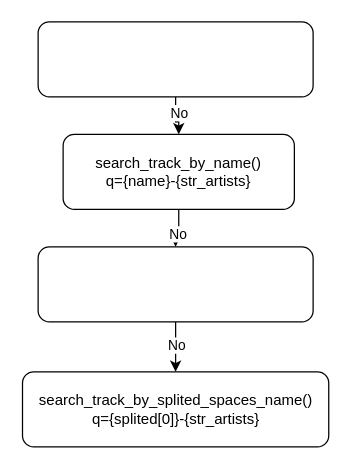
Image size: 350x469. Some labels were removed from this diagram. Each missing label, with the centre of its shape:
search_track_by_name_and_artists() q={artists_names}-{name}: pixel 175 59
search_track_by_splited_name() q={splited[0]}-{str_artists}: pixel 175 284
